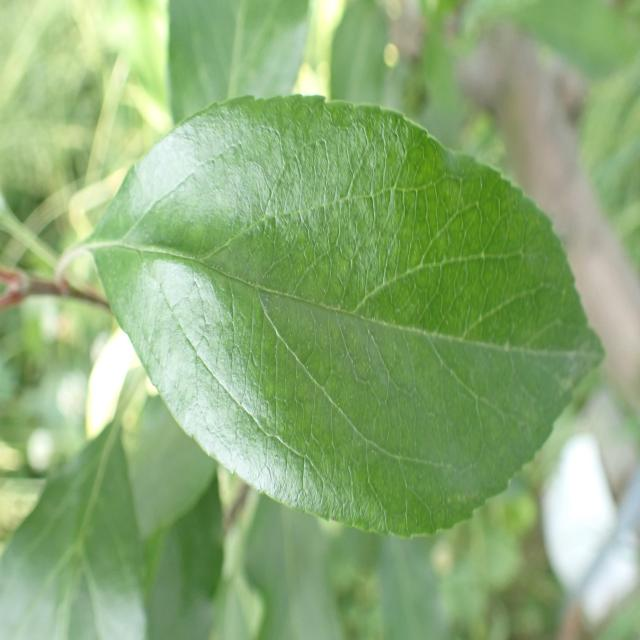healthy: (88, 92, 606, 538), (0, 416, 149, 640)
